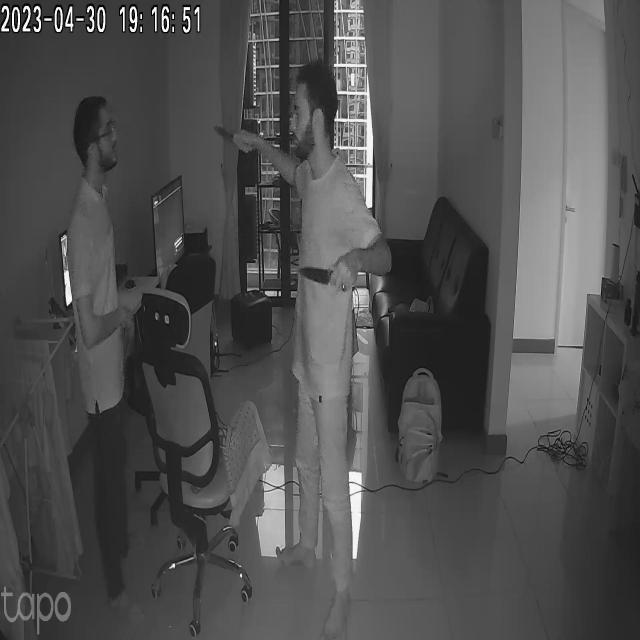Knife: (292, 252, 368, 304), (210, 115, 252, 155)
